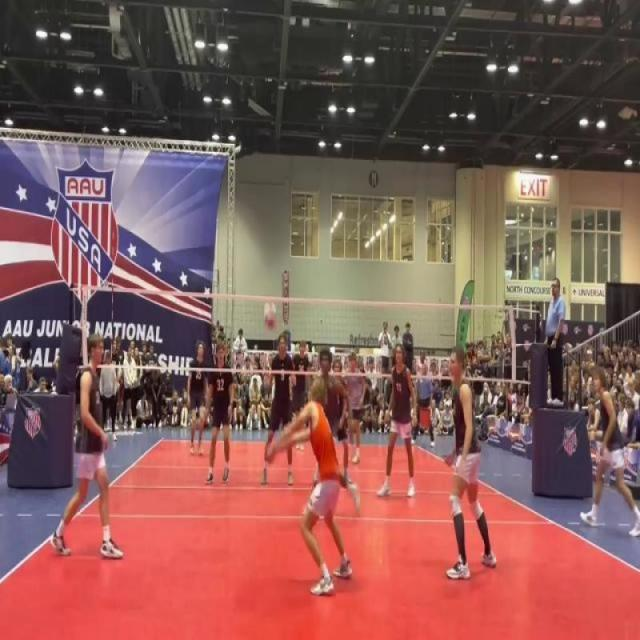volleyball: (262, 296, 278, 330)
